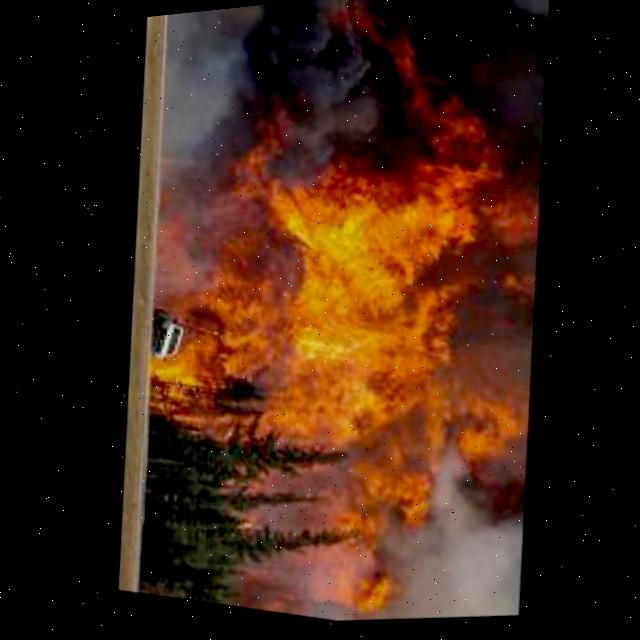fire: (168, 153, 512, 439), (227, 428, 449, 613)
